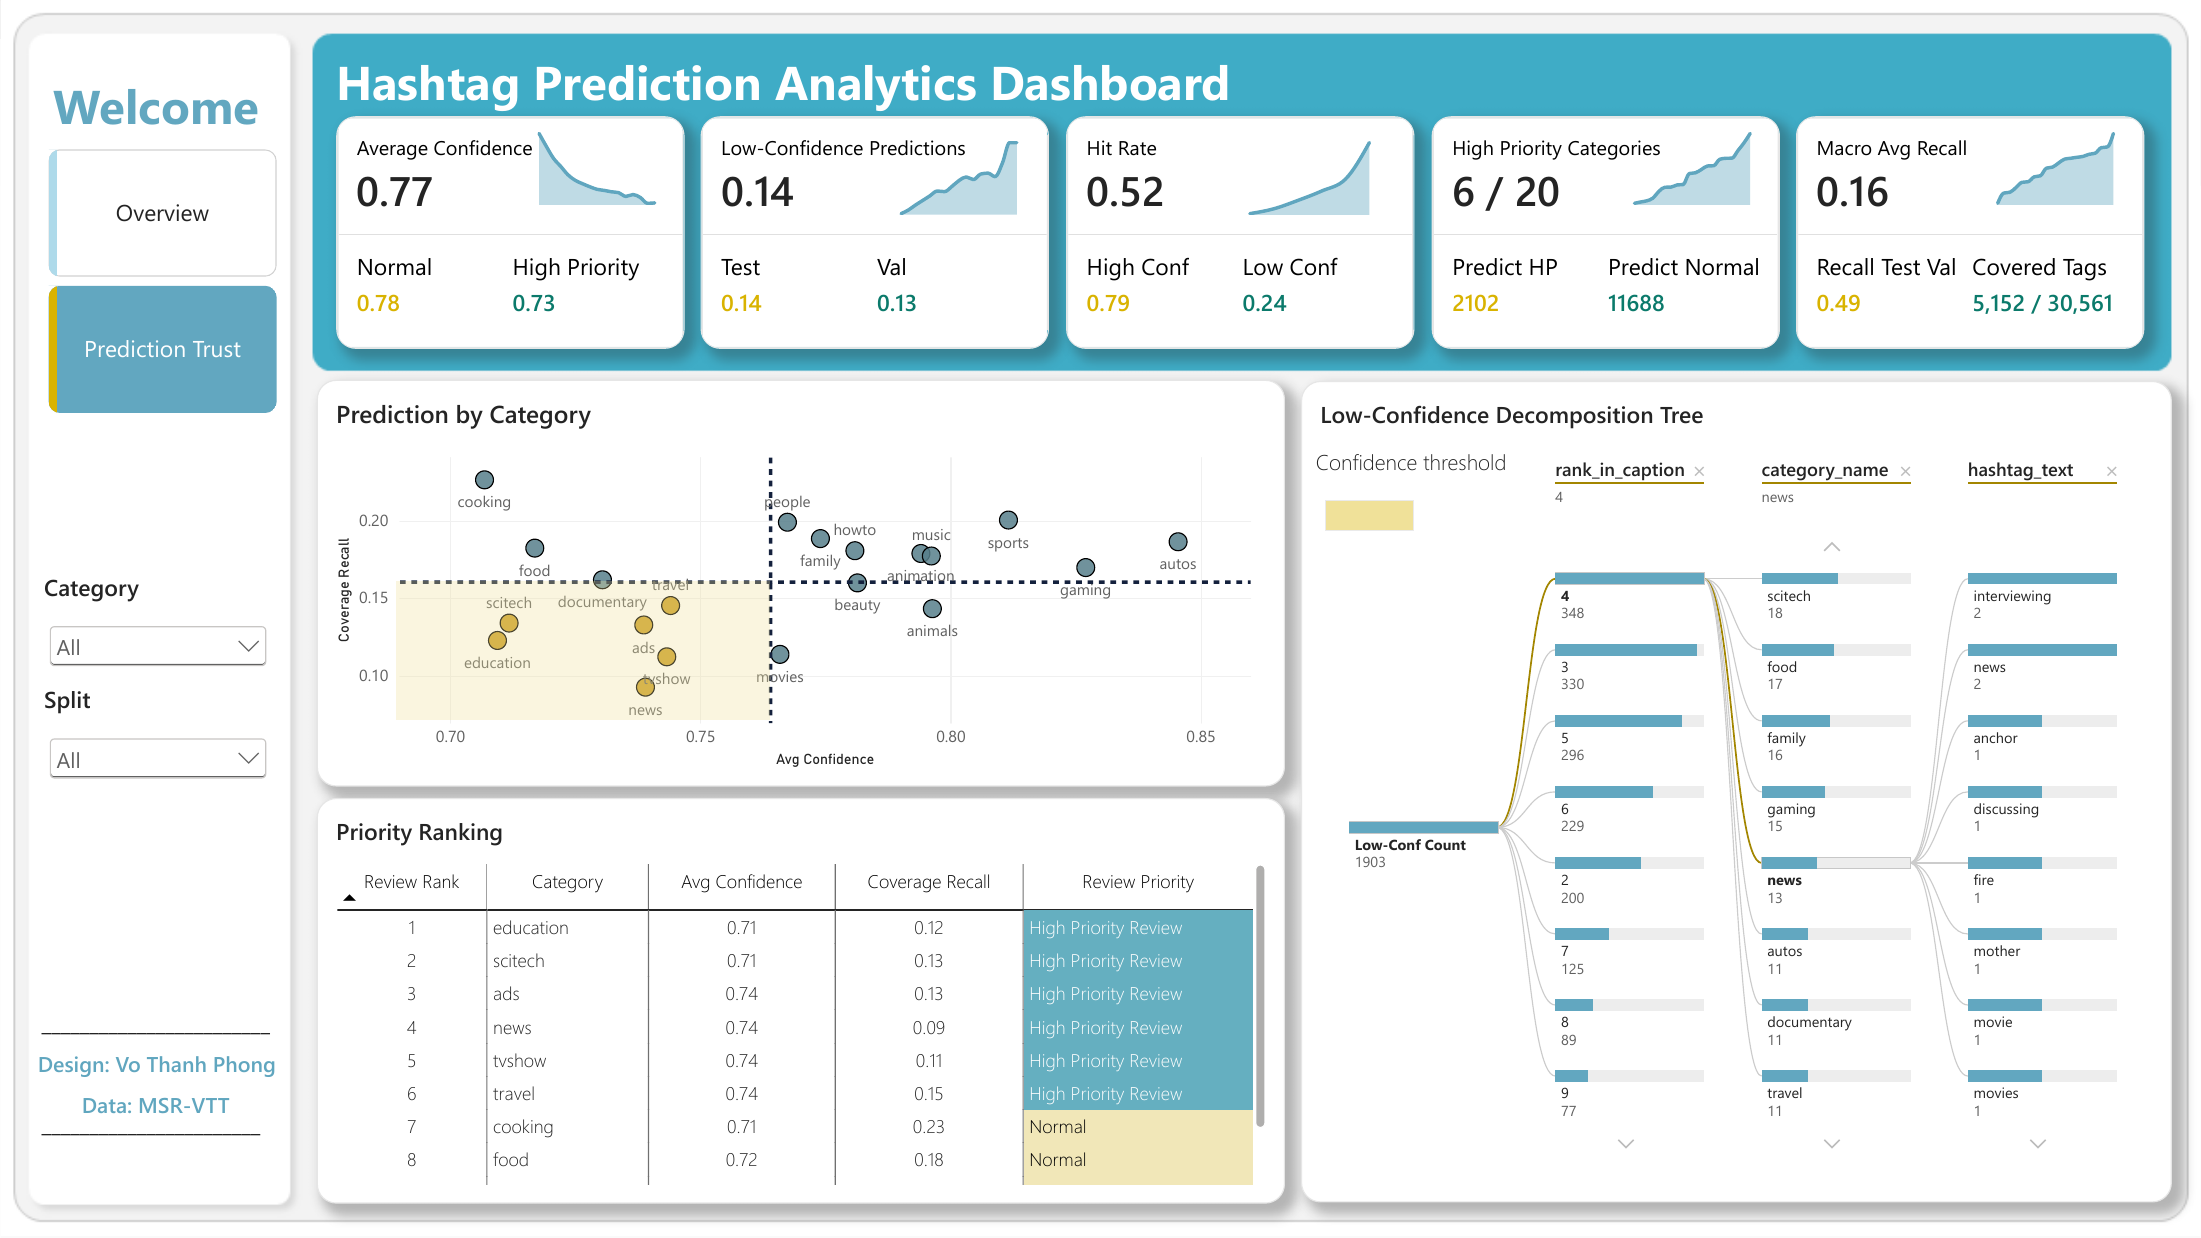

The dashboard page shown, as its layout file describes it:
{"tool":"powerbi","page":{"name":"Prediction Trust","canvas":[1920,1080],"ordinal":1},"visuals":[{"type":"shape","title":"Hashtag Prediction Analytics Dashboard","box":[292.6,41.8,908.9,60.4],"z":0},{"type":"shape","title":"Welcome","box":[41.7,63.4,188.5,59.8],"z":1000},{"type":"pageNavigator","box":[42,130,199,230],"z":2000},{"type":"shape","title":"________________________","box":[36.2,882.7,199.4,38.1],"z":3000},{"type":"shape","title":"________________________","box":[35.7,971.4,199.4,38.1],"z":4000},{"type":"shape","title":"Design: Vo Thanh Phong","box":[18.6,915.7,235.7,37.1],"z":5000},{"type":"shape","title":"Data: MSR-VTT","box":[35.7,951.4,199.4,38.1],"z":6000},{"type":"scatterChart","title":"Prediction by Category","fields":{"Category":["dim_category.category_name"],"X":["*Measure.Avg Confidence"],"Y":["*Measure.Coverage Recall"]},"box":[275.7,331.4,845.7,354.3],"z":7000},{"type":"shape","box":[345,506.7,326.7,121.7],"z":8000},{"type":"cardVisual","fields":{"Data":["*Measure.Overall Avg Confidence"]},"box":[292.7,101.4,304,203],"z":9000},{"type":"tableEx","title":"Priority Ranking","fields":{"Values":["*Measure.Review Rank","dim_category.category_name","*Measure.Avg Confidence","*Measure.Coverage Recall","*Measure.Review Priority"]},"box":[275.7,695.7,845.7,354.3],"z":10000},{"type":"decompositionTreeVisual","title":"Low-Confidence Decomposition Tree","fields":{"Analyze":["*Measure.Low-Conf Count"],"ExplainBy":["fact_prediction.rank_in_caption","dim_category.category_name","dim_hashtag.hashtag_text"]},"box":[1135,331.7,760,717.5],"z":11000},{"type":"slicer","title":"Confidence threshold","fields":{"Values":["Confidence Threshold.Confidence Threshold"]},"box":[1148.3,390,200,118],"z":12000},{"type":"areaChart","fields":{"Category":["fact_prediction.rank_in_caption"],"Y":["*Measure.Avg Confidence"]},"box":[444.3,92.9,152.9,101.4],"z":13000},{"type":"cardVisual","fields":{"Data":["*Measure.Overall Low Conf %"]},"box":[611.3,101.4,304,203],"z":14000},{"type":"cardVisual","fields":{"Data":["*Measure.Hit Rate"]},"box":[929.9,101.4,304,203],"z":15000},{"type":"cardVisual","fields":{"Data":["*Measure.High Priority Categories"]},"box":[1248.5,101.4,304,203],"z":16000},{"type":"cardVisual","fields":{"Data":["*Measure.Macro Avg Recall"]},"box":[1567.1,101.4,304,203],"z":17000},{"type":"areaChart","fields":{"Category":["fact_prediction.rank_in_caption"],"Y":["*Measure.Low Conf %"]},"box":[760,101.4,152.9,101.4],"z":18000},{"type":"areaChart","fields":{"Category":["fact_prediction.Confidence Band"],"Y":["*Measure.Hit Rate"]},"box":[1065.7,101.4,152.9,101.4],"z":19000},{"type":"areaChart","fields":{"Category":["dim_category.Conf Rank"],"Y":["*Measure.Avg Confidence"]},"box":[1400,92.9,152.9,101.4],"z":20000},{"type":"areaChart","fields":{"Category":["dim_category.Recall Rank"],"Y":["*Measure.Coverage Recall"]},"box":[1717.1,92.9,152.9,101.4],"z":21000},{"type":"slicer","title":"Category","fields":{"Values":["dim_category.category_name"]},"box":[38.1,498.4,199.4,97.9],"z":21001},{"type":"slicer","title":"Split","fields":{"Values":["dim_video.split"]},"box":[38.1,596.3,199.4,97.9],"z":21002}]}

Visuals, with their boxes in screenshot pixels (x1, y1, x2, y2), scaled from the page's 1920x1080 canvas onto the 2201x1238 screenshot:
"Hashtag Prediction Analytics Dashboard" shape: locate(335, 48, 1377, 117)
"Welcome" shape: locate(48, 73, 264, 141)
pageNavigator: locate(48, 149, 276, 413)
"________________________" shape: locate(41, 1012, 270, 1056)
"________________________" shape: locate(41, 1114, 270, 1157)
"Design: Vo Thanh Phong" shape: locate(21, 1050, 292, 1092)
"Data: MSR-VTT" shape: locate(41, 1091, 270, 1134)
"Prediction by Category" scatterChart: locate(316, 380, 1286, 786)
shape: locate(395, 581, 770, 720)
cardVisual - *Measure.Overall Avg Confidence: locate(336, 116, 684, 349)
"Priority Ranking" tableEx: locate(316, 797, 1286, 1204)
"Low-Confidence Decomposition Tree" decompositionTreeVisual: locate(1301, 380, 2172, 1203)
"Confidence threshold" slicer: locate(1316, 447, 1546, 582)
areaChart - fact_prediction.rank_in_caption x *Measure.Avg Confidence: locate(509, 106, 685, 223)
cardVisual - *Measure.Overall Low Conf %: locate(701, 116, 1049, 349)
cardVisual - *Measure.Hit Rate: locate(1066, 116, 1414, 349)
cardVisual - *Measure.High Priority Categories: locate(1431, 116, 1780, 349)
cardVisual - *Measure.Macro Avg Recall: locate(1796, 116, 2145, 349)
areaChart - fact_prediction.rank_in_caption x *Measure.Low Conf %: locate(871, 116, 1047, 232)
areaChart - fact_prediction.Confidence Band x *Measure.Hit Rate: locate(1222, 116, 1397, 232)
areaChart - dim_category.Conf Rank x *Measure.Avg Confidence: locate(1605, 106, 1780, 223)
areaChart - dim_category.Recall Rank x *Measure.Coverage Recall: locate(1968, 106, 2144, 223)
"Category" slicer: locate(44, 571, 272, 684)
"Split" slicer: locate(44, 684, 272, 796)
